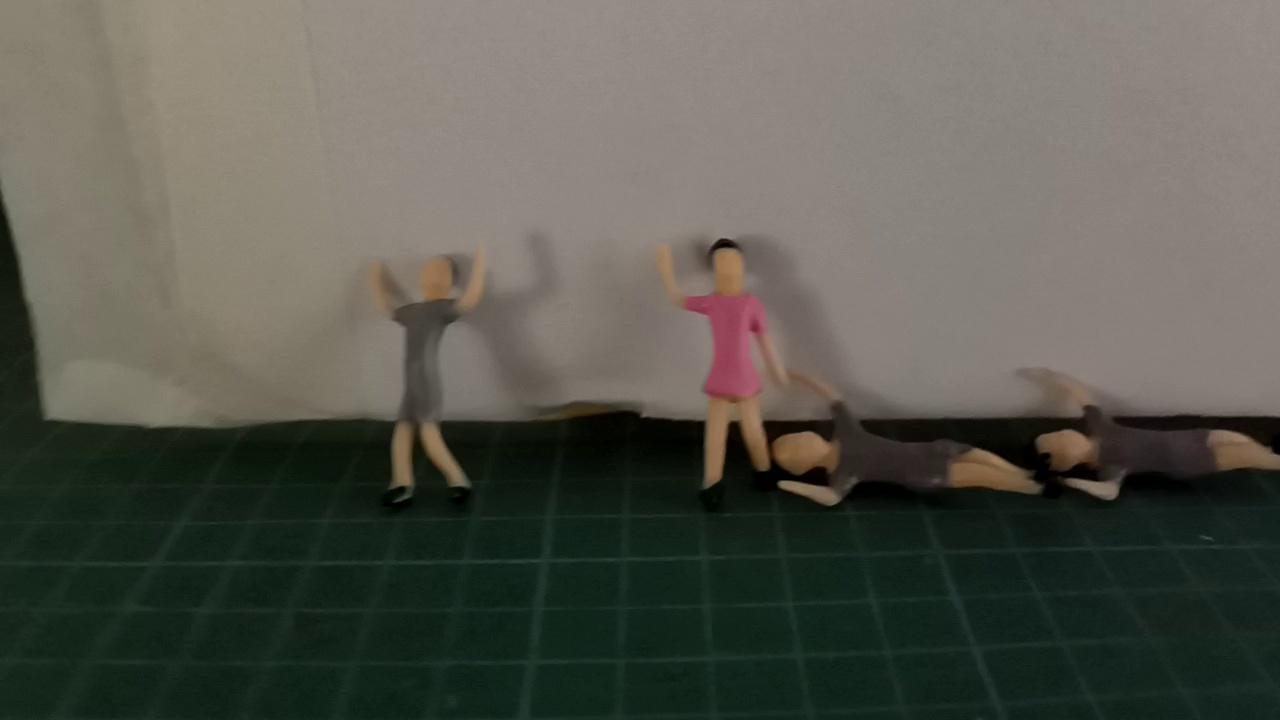human: (764, 362, 1047, 524), (649, 227, 790, 525), (1009, 360, 1280, 509), (363, 237, 502, 514)
